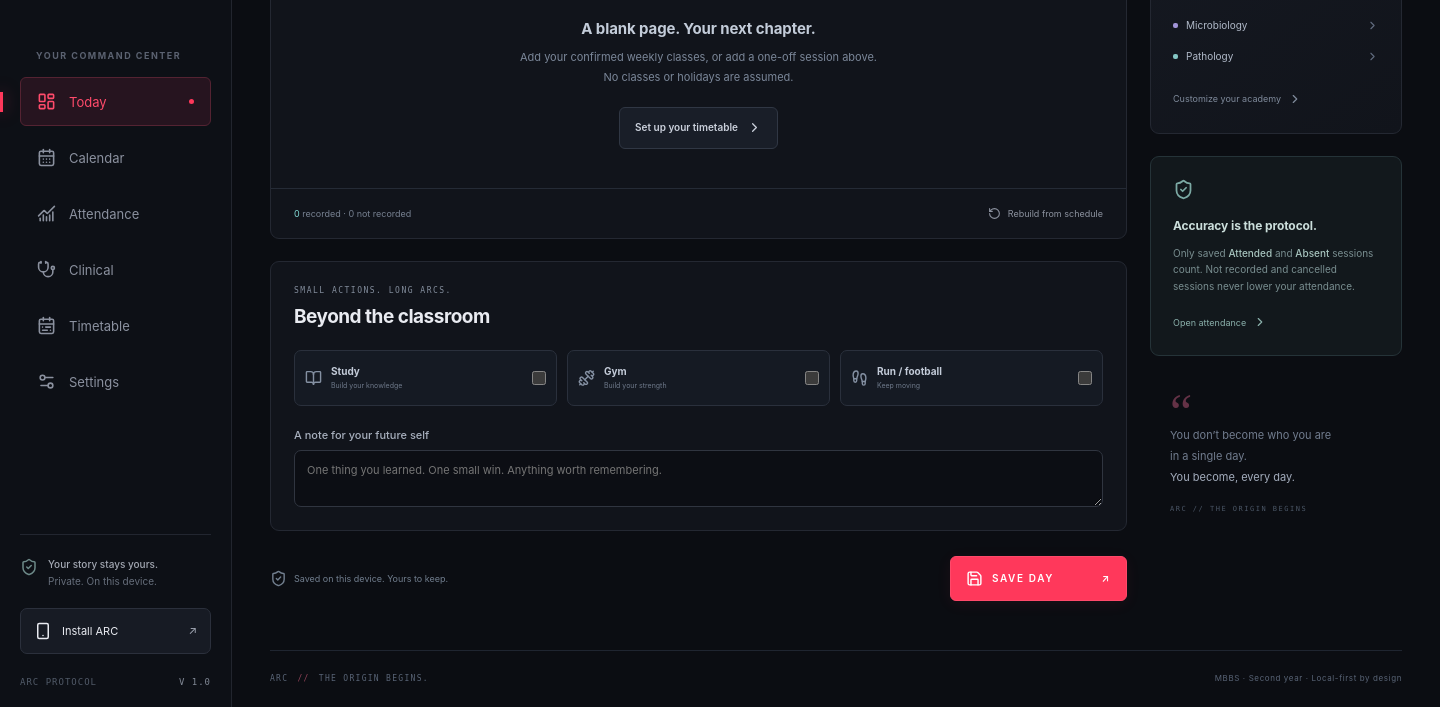
Test case: Academy user flows › preserves changes on a failed save and never shows a false success
(page scrolled)
Step 1. Type "Keep this unsaved note" into the text box labelled "A note for your future self" → (698, 479), box [294, 450, 1103, 507]
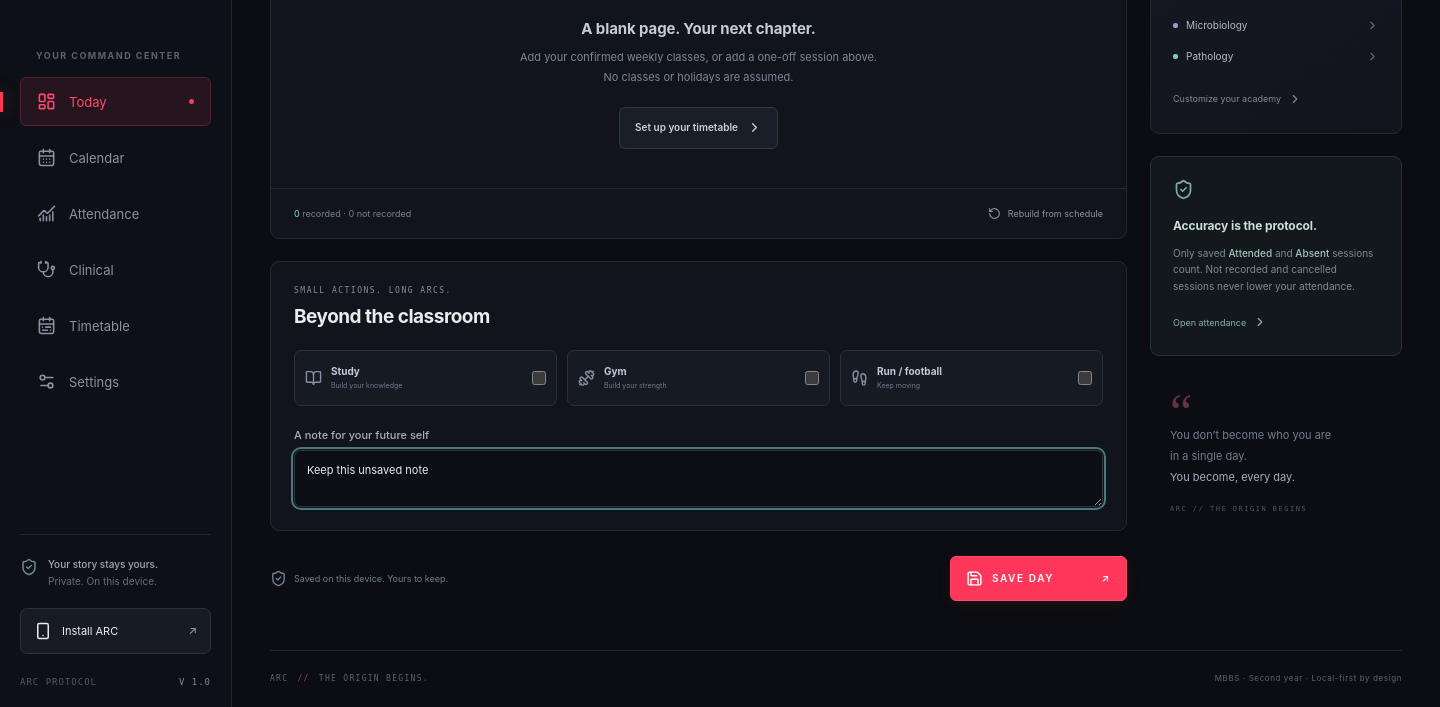
Step 2. Click the button "SAVE DAY ↗" → (1038, 579), box [950, 556, 1127, 601]
(page scrolled)
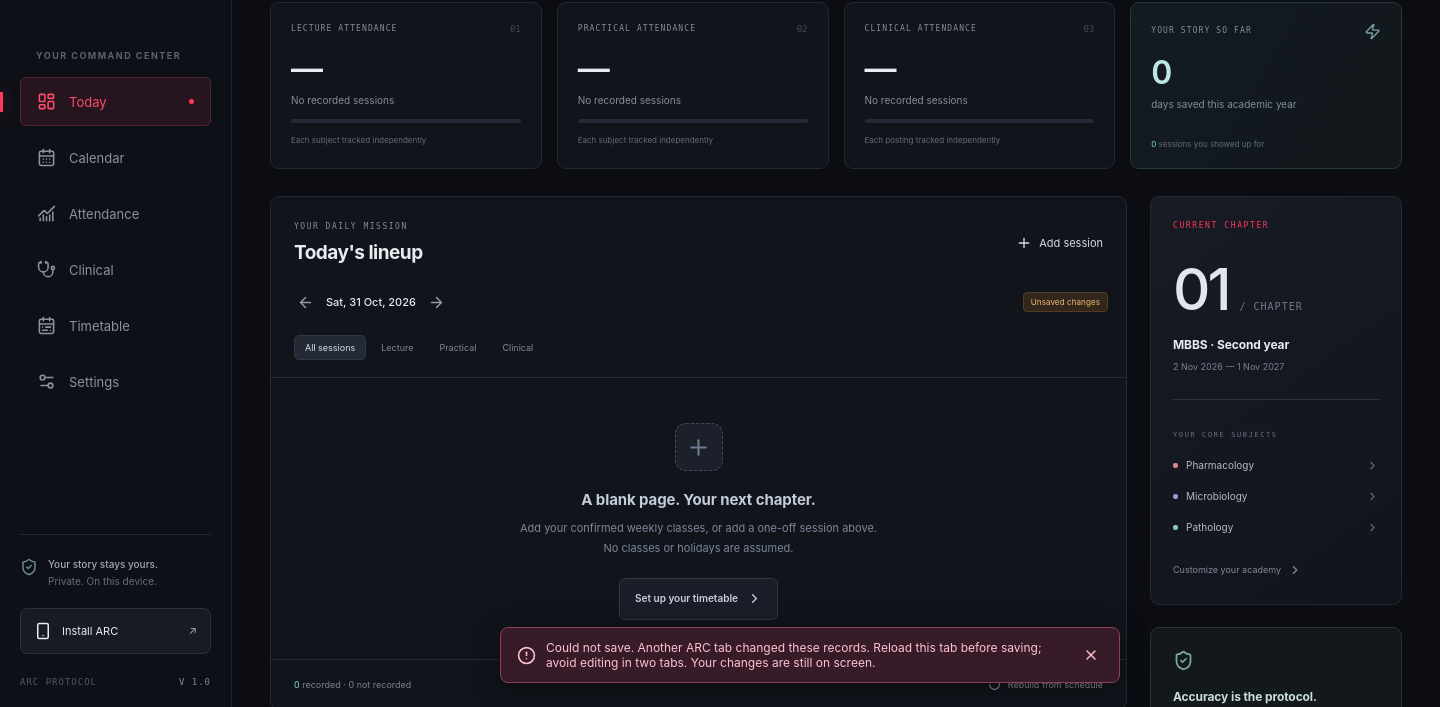
expect the text "Unsaved changes" is shown: met, box [1023, 292, 1108, 312]
expect the message shows "Another ARC tab": met, box [546, 640, 1042, 670]
